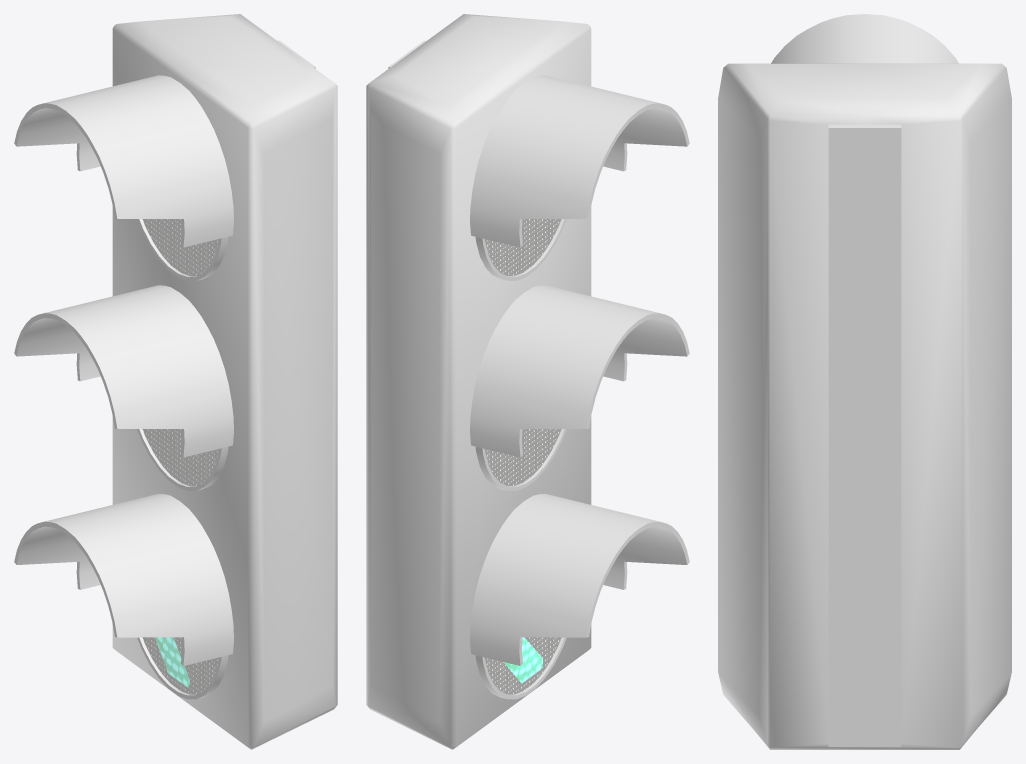
Rendered from 竖排左转灯_GreenLight.glb.
The picture shows the model from 3 angles, left to right: view 1: azimuth 30°, elevation 25°; view 2: azimuth 150°, elevation 25°; view 3: azimuth 270°, elevation 25°; orthographic projection.
Parts seen in each view (by area): view 1: 竖排左转灯_GreenLight; view 2: 竖排左转灯_GreenLight; view 3: 竖排左转灯_GreenLight.
Boxes of the visible parts, box(x1,y1,x2,y2) form: 竖排左转灯_GreenLight: box(14, 14, 337, 749); 竖排左转灯_GreenLight: box(366, 14, 689, 749); 竖排左转灯_GreenLight: box(718, 14, 1011, 749).
Size of the model in its own units: 0.6001 by 1.58 by 0.65.
Materials: 3 (2 with a texture image).
